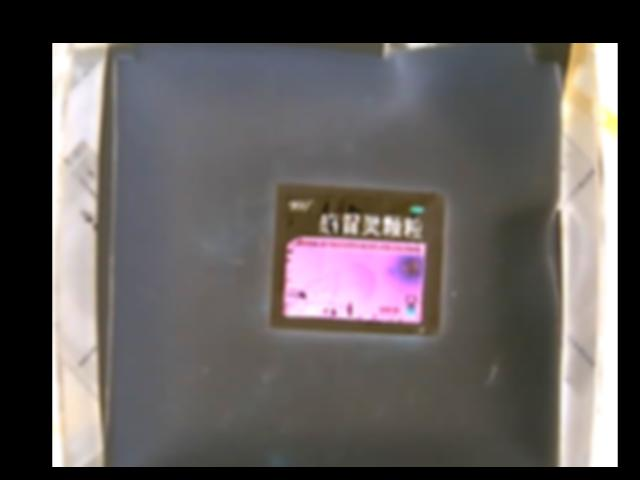Medicine: (270, 182, 443, 337)
